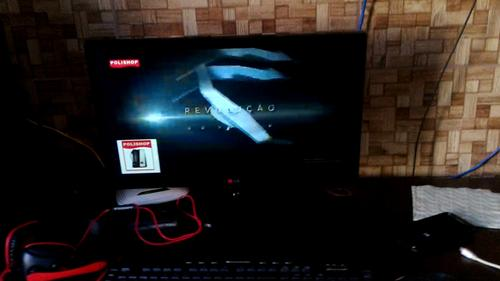Polishop #1: (116, 139, 161, 173)
